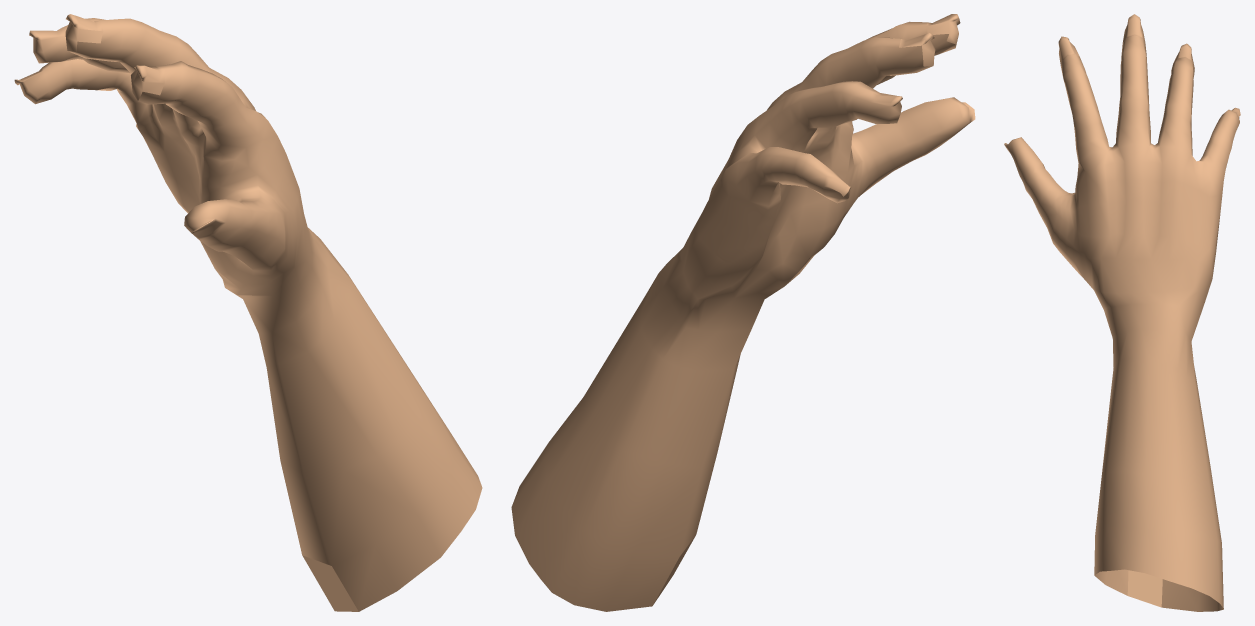
File: PrototypeHand.fbx
The picture shows the model from 3 angles, left to right: view 1: azimuth 30°, elevation 25°; view 2: azimuth 150°, elevation 25°; view 3: azimuth 270°, elevation 25°; orthographic projection. The views are drawn at different scales.
Parts seen in each view (by area): view 1: PrototypeHand_Mesh; view 2: PrototypeHand_Mesh; view 3: PrototypeHand_Mesh.
Boxes of the visible parts, box(x1,y1,x2,y2) form: PrototypeHand_Mesh: box(14, 14, 482, 611); PrototypeHand_Mesh: box(511, 14, 975, 611); PrototypeHand_Mesh: box(1004, 14, 1240, 611).
Size of the model in its own units: 1.43 by 2.18 by 0.9483.
